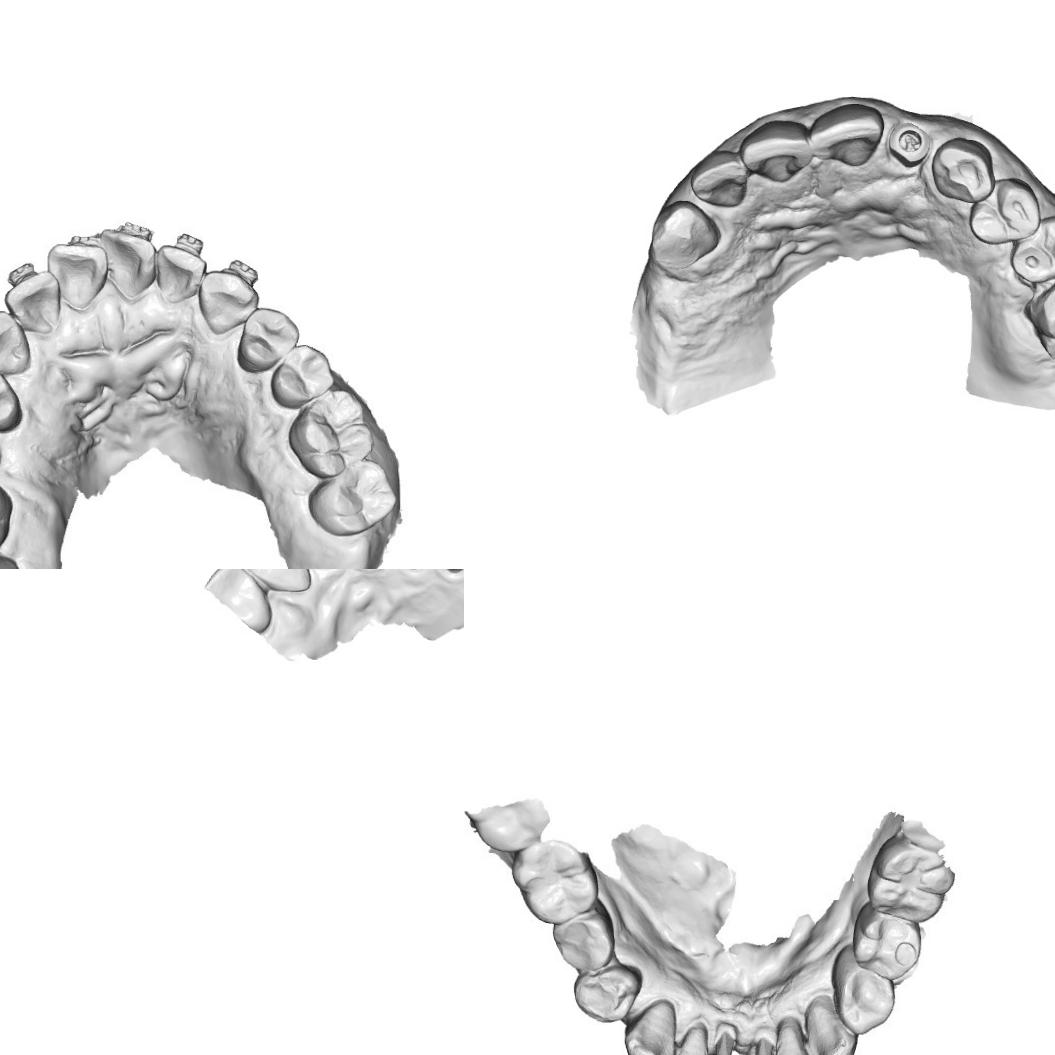abutment: (713, 1031, 736, 1055), (751, 1036, 773, 1055)
canine: (644, 198, 723, 273), (929, 136, 999, 204), (198, 266, 256, 332), (623, 997, 679, 1055), (806, 993, 857, 1055), (0, 309, 33, 373)
implant: (888, 121, 930, 167)
incisor: (808, 103, 888, 169), (740, 118, 812, 182), (203, 569, 271, 636), (100, 227, 158, 300), (46, 240, 106, 310), (2, 272, 65, 332), (687, 151, 750, 210), (153, 242, 205, 301), (231, 569, 311, 593), (775, 1017, 810, 1055), (667, 1026, 708, 1055)
molar: (286, 384, 379, 479), (863, 836, 958, 925), (511, 836, 596, 926), (306, 456, 398, 538), (1026, 262, 1055, 364)
premolar: (851, 907, 921, 982), (966, 178, 1042, 246), (834, 956, 898, 1036), (266, 342, 338, 409), (570, 962, 643, 1023), (551, 907, 617, 974), (234, 306, 299, 372), (1007, 213, 1055, 285), (0, 366, 24, 434)
